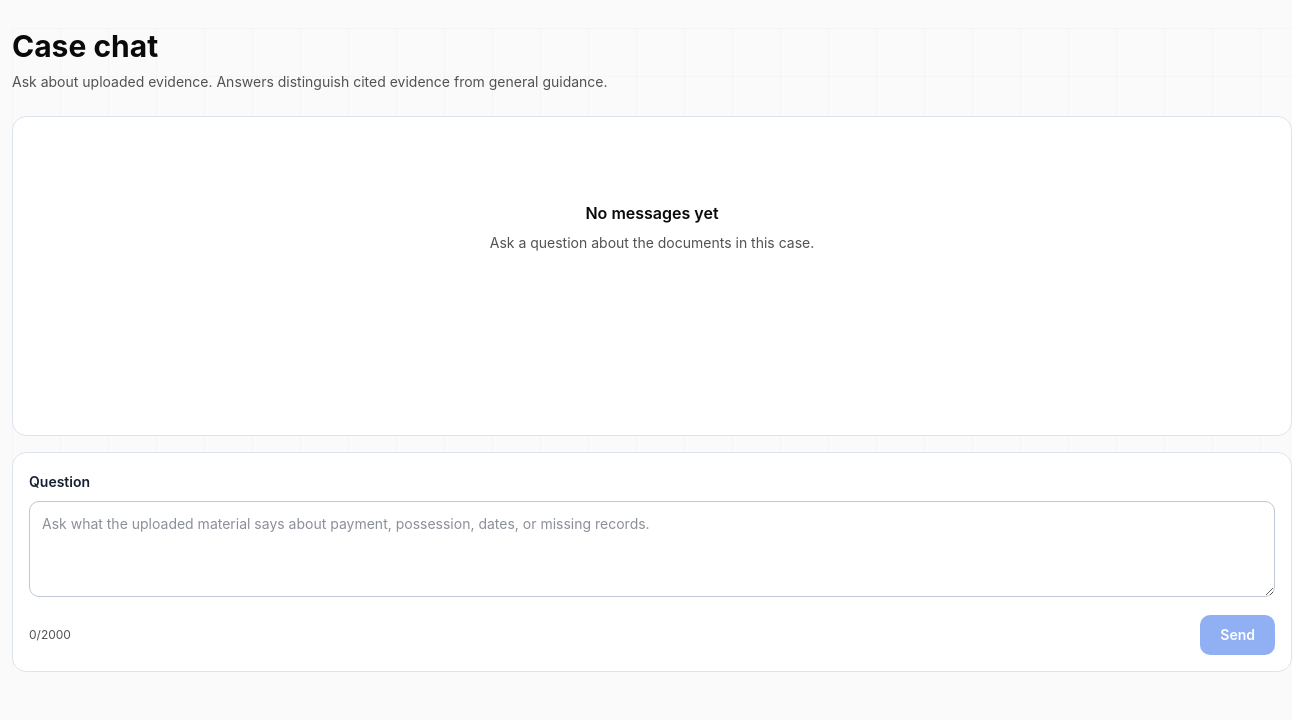
Scenario: Stage 5 case chat › shows a pending question, disables duplicate sends, and renders guidance after success
Later steps or results of the test are not shown.
Replace the text in the text box labelled "Question" with "What law applies?" at x=652, y=549, box [29,501,1275,597]
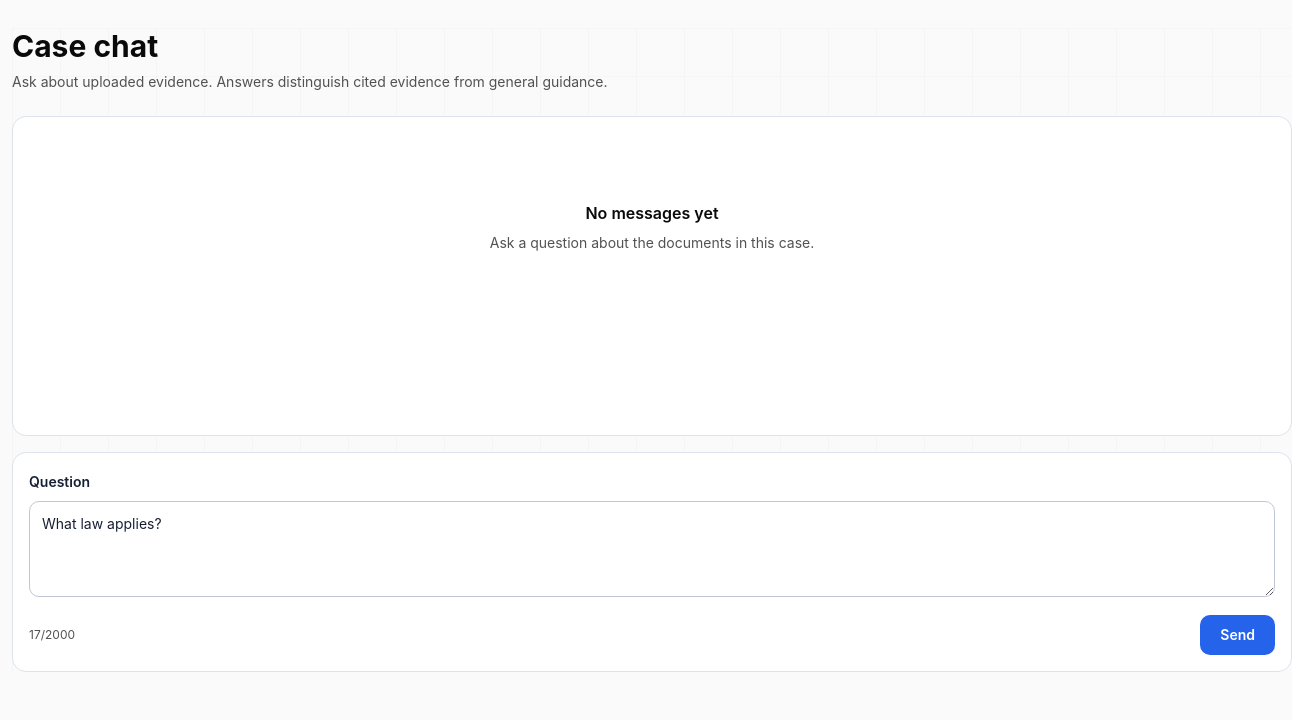
Click the button "Send" at x=1238, y=635, box [1200,615,1275,655]
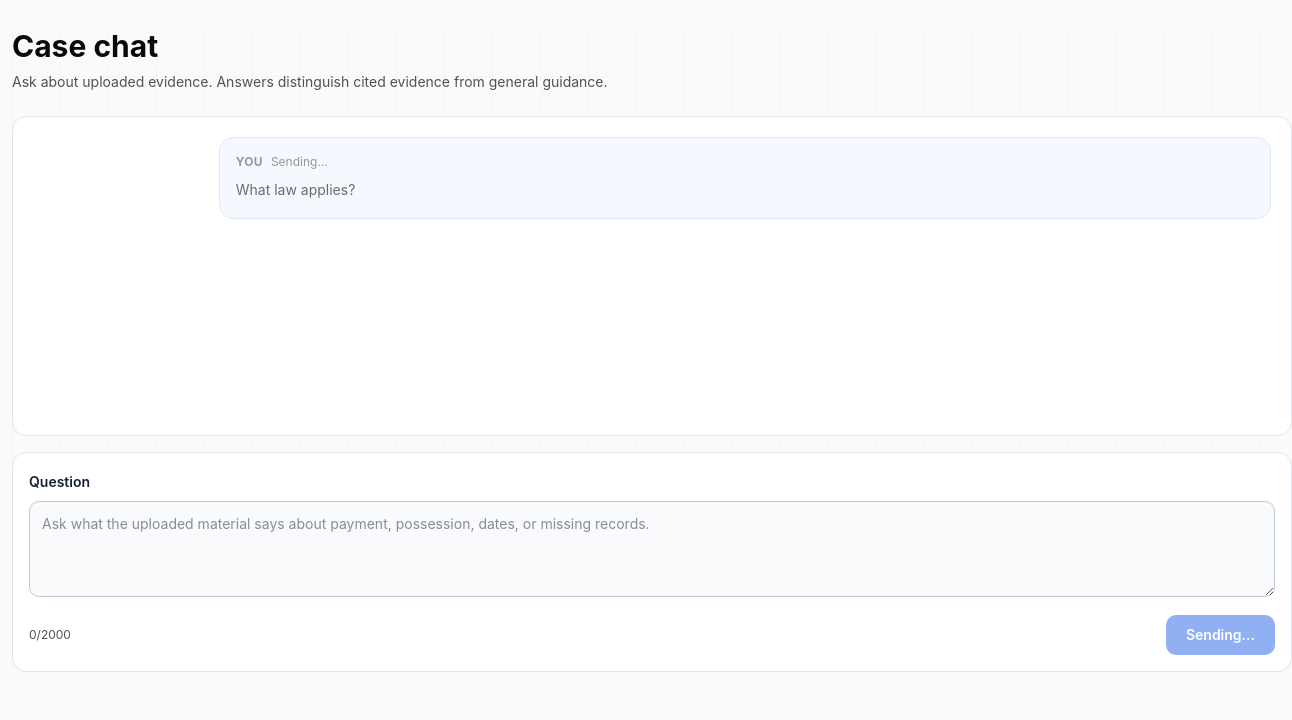
Expected: the text "What law applies?" is shown, [236,181,355,198]
Expected: the button "Sending…" is disabled, [1166,615,1275,655]
